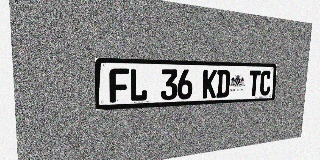3: (161, 69, 177, 100)
6: (177, 69, 193, 100)
C: (259, 71, 272, 96)
D: (216, 70, 230, 98)
F: (109, 68, 129, 103)
K: (202, 70, 217, 98)
L: (129, 68, 148, 102)
T: (248, 70, 261, 96)
